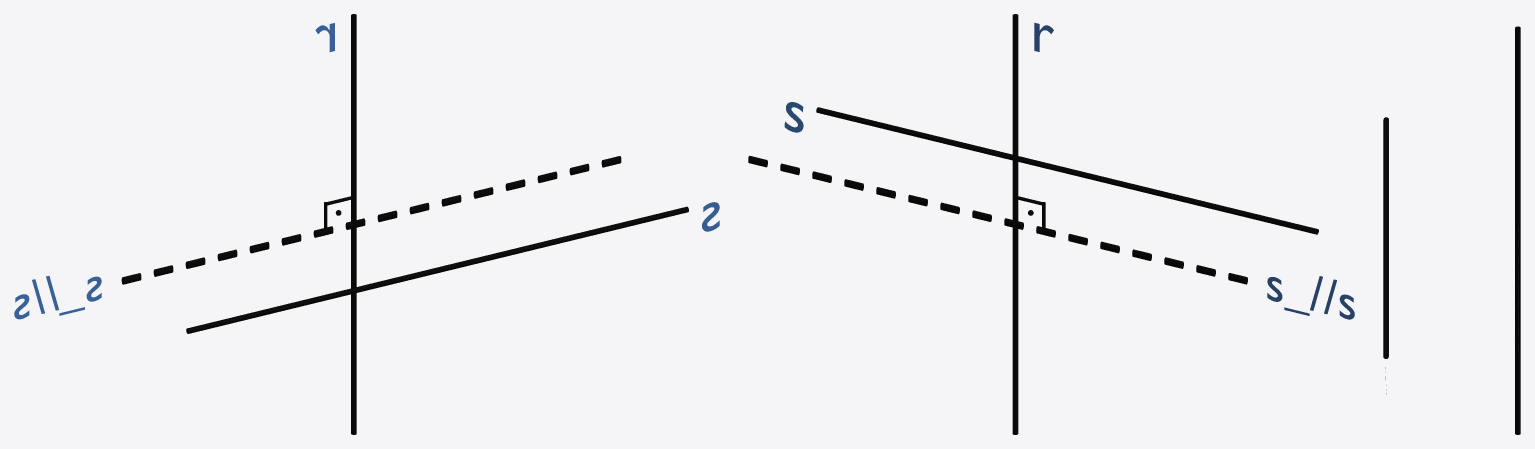
Rendered from ob1.4_retas_ortogonais.wrl.glb.
3 views of the same model, side by side, from view 1: azimuth 30°, elevation 25°; view 2: azimuth 150°, elevation 25°; view 3: azimuth 270°, elevation 25° (orthographic). The views are drawn at different scales.
Visible parts, largest first — view 1: A16_Cylinder, letra_s0_Text; view 2: A16_Cylinder, letra_s0_Text; view 3: A16_Cylinder.
Part boxes in pixels (left/top/right/bottom): A16_Cylinder: left=121, top=14, right=688, bottom=434; letra_s0_Text: left=14, top=276, right=101, bottom=319; A16_Cylinder: left=748, top=14, right=1318, bottom=434; letra_s0_Text: left=1267, top=276, right=1354, bottom=319; A16_Cylinder: left=1383, top=26, right=1520, bottom=434.
Bounding box in the file's own units: 1.28 × 0.8 × 0.2454.
